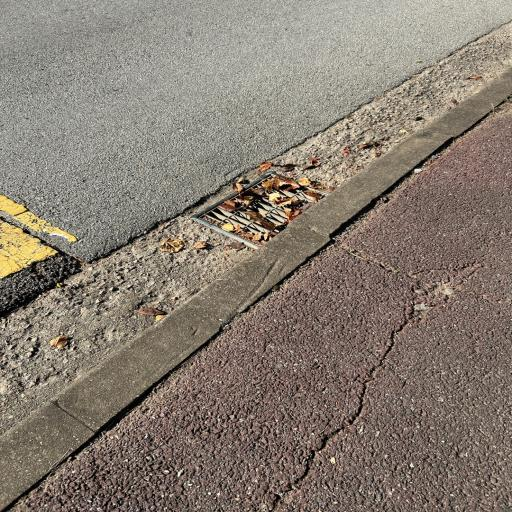debris: (251, 176, 321, 224), (214, 209, 279, 242), (219, 195, 251, 212), (326, 195, 330, 199)
drain: (201, 172, 333, 244)
